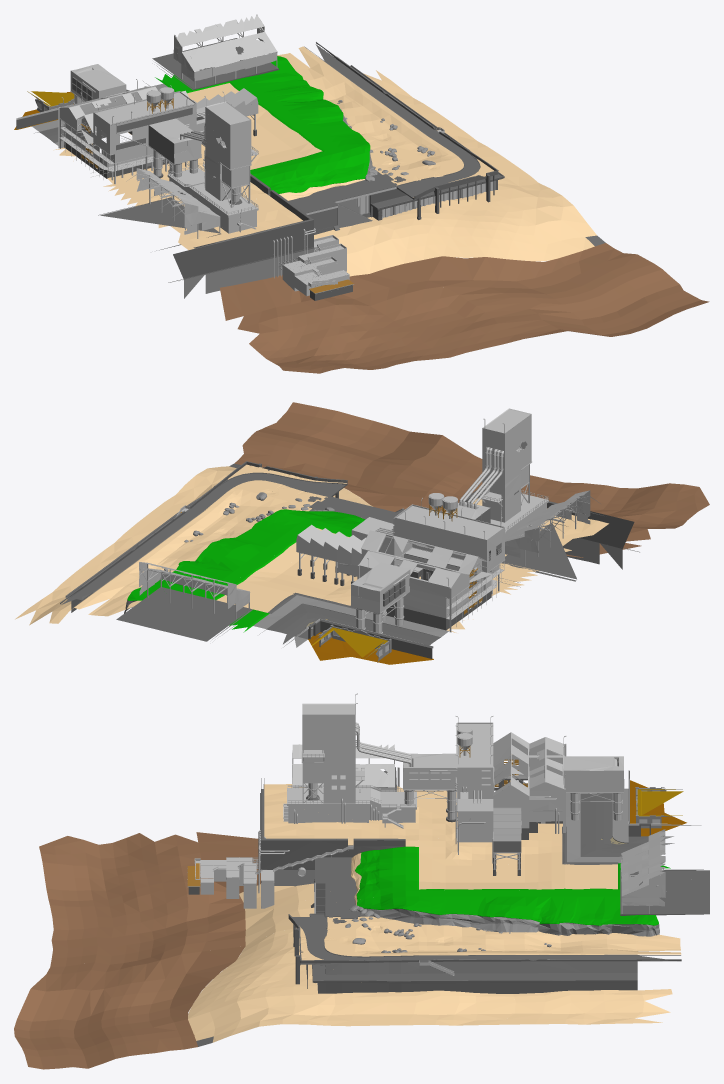
The model's file is bronx_e_4.FBX.
The picture shows the model from 3 angles, top to bottom: view 1: azimuth 30°, elevation 25°; view 2: azimuth 150°, elevation 25°; view 3: azimuth 270°, elevation 25°; orthographic projection. The views are drawn at different scales.
Parts seen in each view (by area): view 1: unnamed, null; view 2: unnamed, null; view 3: unnamed, null.
Boxes of the visible parts, bbox=[...] form: unnamed: bbox=[14, 14, 709, 373]; null: bbox=[289, 97, 538, 185]; unnamed: bbox=[15, 402, 709, 664]; null: bbox=[76, 476, 341, 571]; unnamed: bbox=[14, 693, 709, 1069]; null: bbox=[312, 889, 534, 1026].
Bounding box in the file's own units: 202 × 82.8 × 260.
